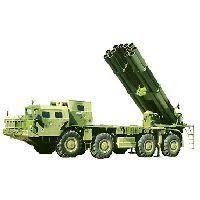MIL_SAM_TEL: (0, 40, 185, 155)
